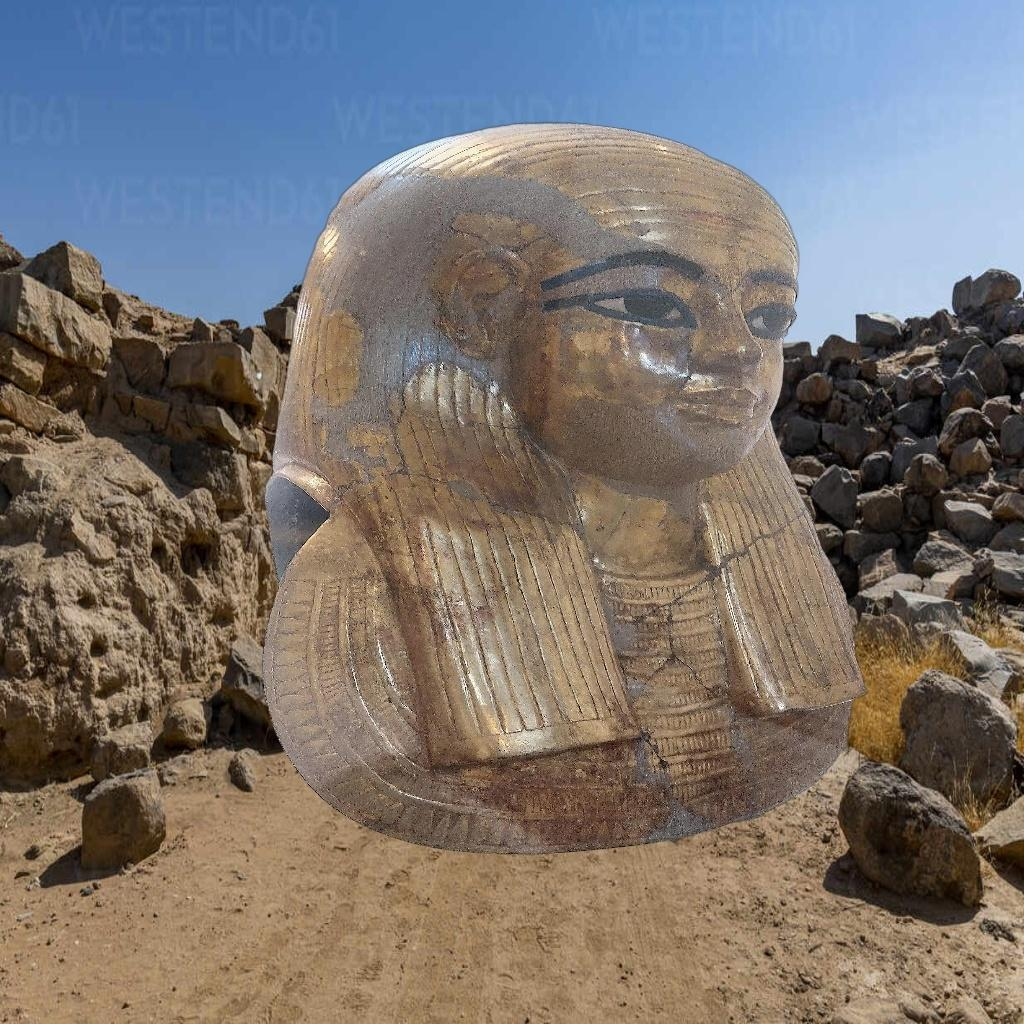Mask of Yuya: (260, 120, 868, 856)
